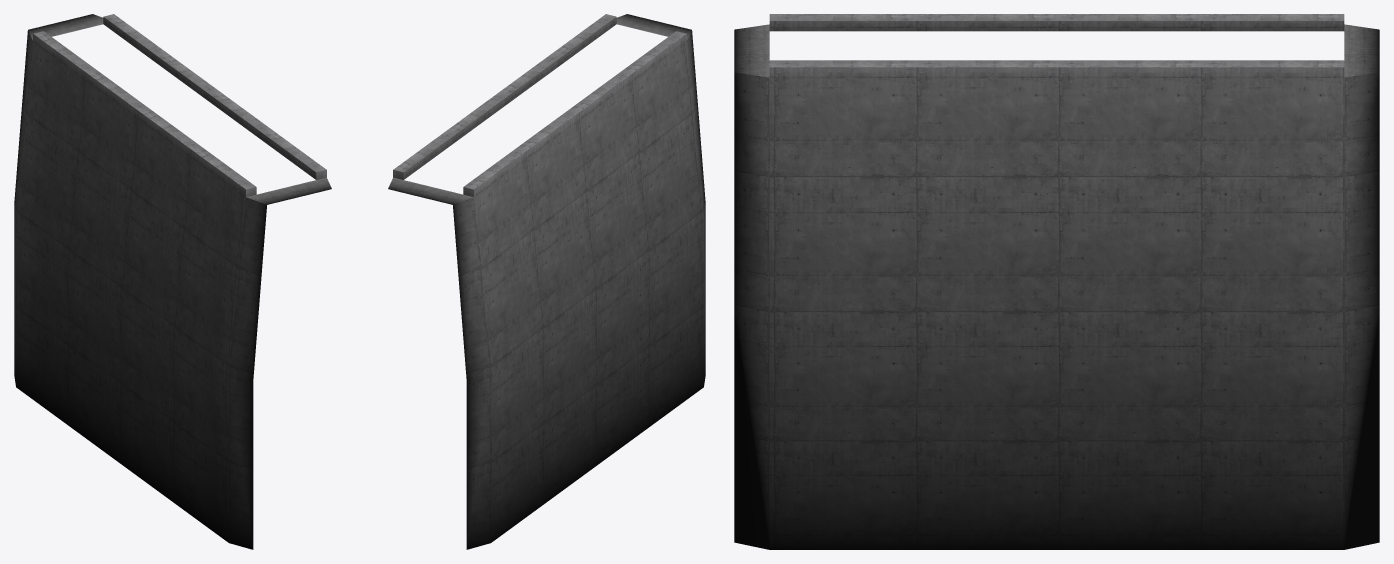
File: AMB_1RAIL_BASE50.glb
3 views of the same model, side by side, from view 1: azimuth 30°, elevation 25°; view 2: azimuth 150°, elevation 25°; view 3: azimuth 270°, elevation 25° (orthographic). The views are drawn at different scales.
Visible parts, largest first — view 1: BASE; view 2: BASE; view 3: BASE.
Part boxes in pixels (x1,y1,x2,y2): BASE: (14,14,331,549); BASE: (388,14,705,549); BASE: (734,14,1379,549).
Bounding box in the file's own units: 15.6 × 45.28 × 56.2.
1 material, 1 textured.
